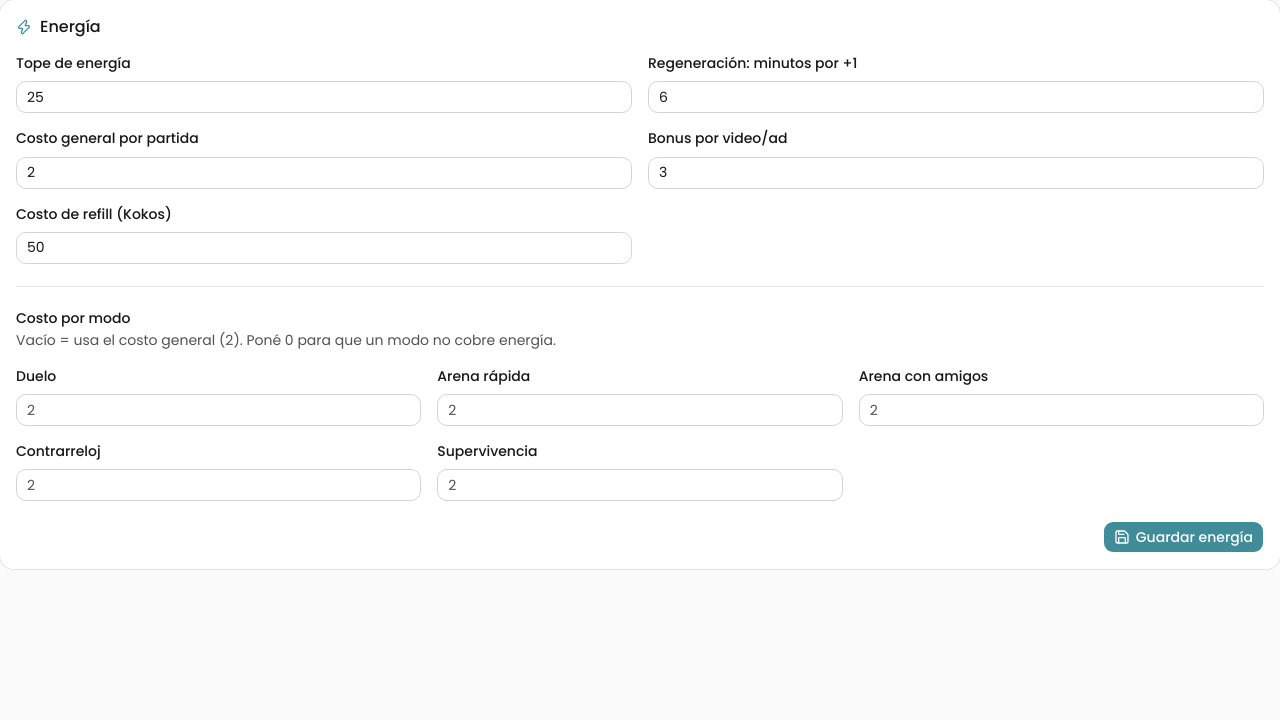
Test: EnergyConfigForm — costo por modo › rechaza un costo negativo y no guarda
The image size is (1280, 720).
Type "-1" into the number field labelled "Contrarreloj" at coordinates (219, 485), box x1=16 y1=469 x2=421 y2=501
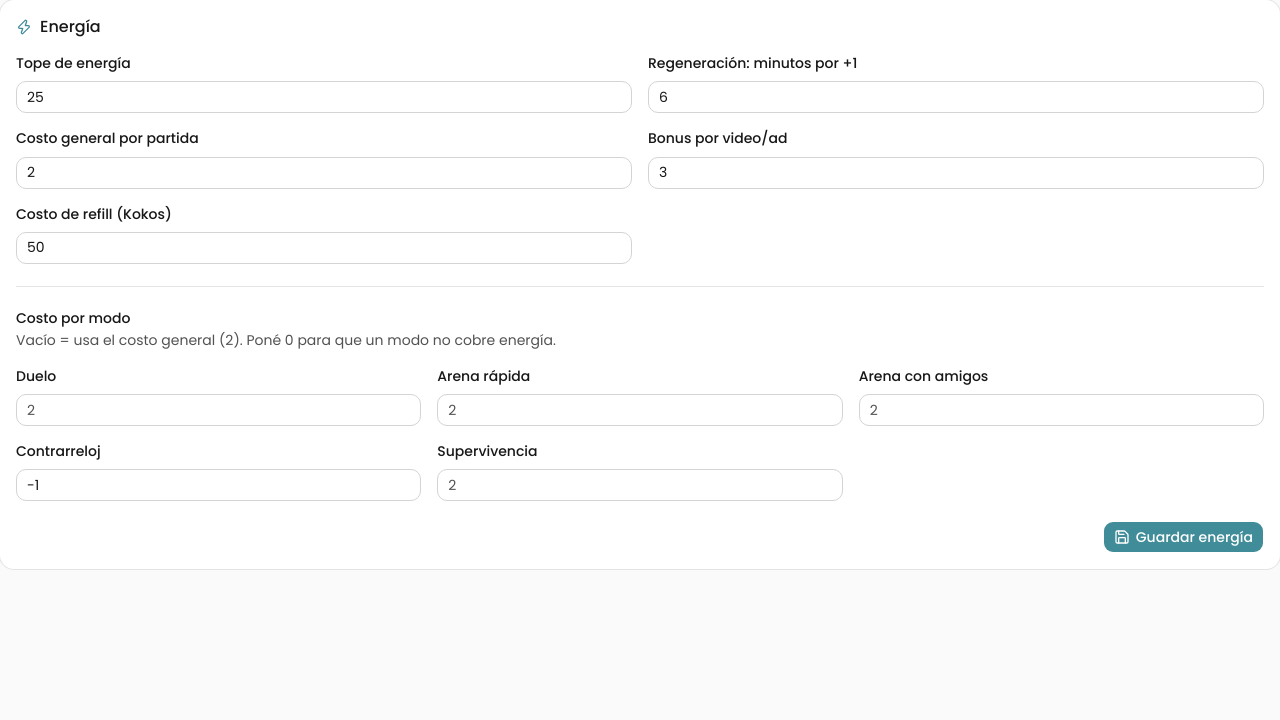
Click the button "Guardar energía" at coordinates (1183, 537), box x1=1103 y1=521 x2=1264 y2=553
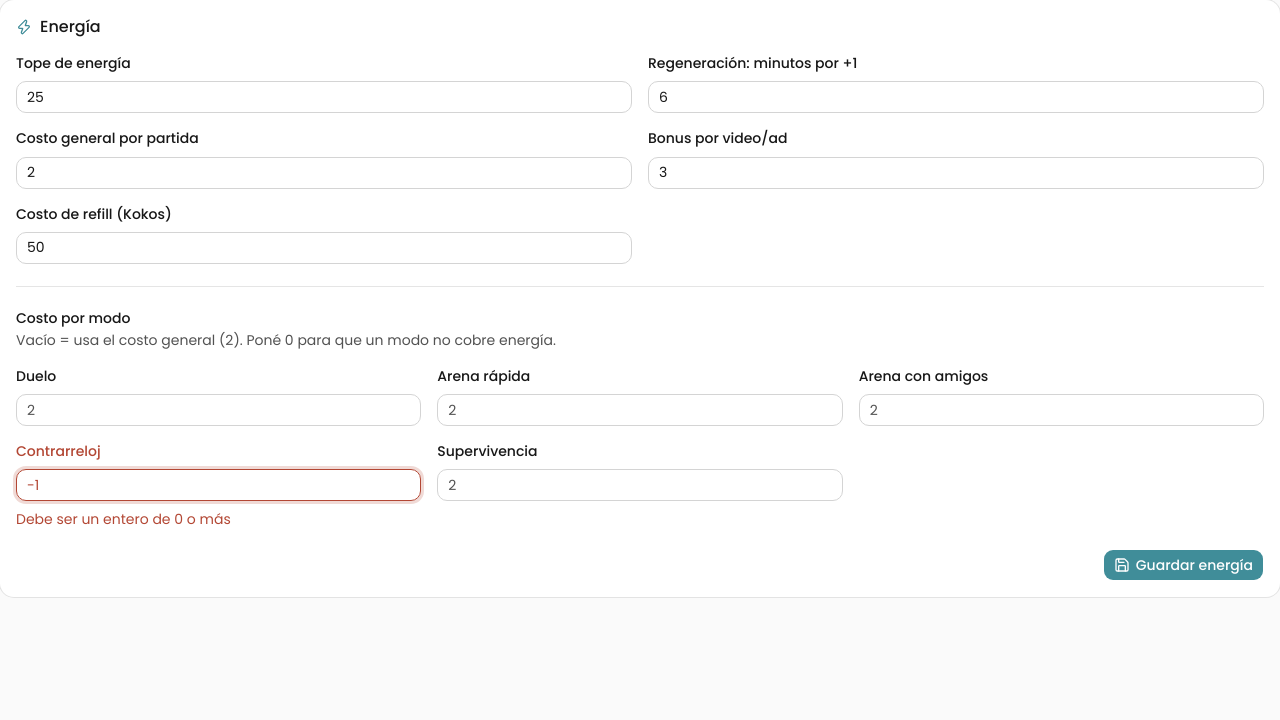
Check: the text "Debe ser un entero de 0 o más" is shown, box x1=16 y1=509 x2=231 y2=529
